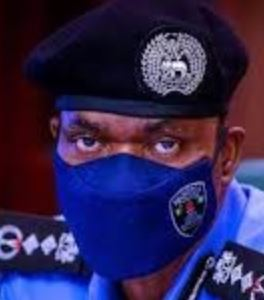with_facemask: (59, 157, 198, 273)
